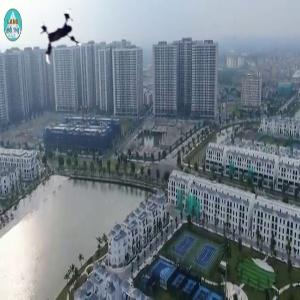drone: (30, 4, 100, 74)
